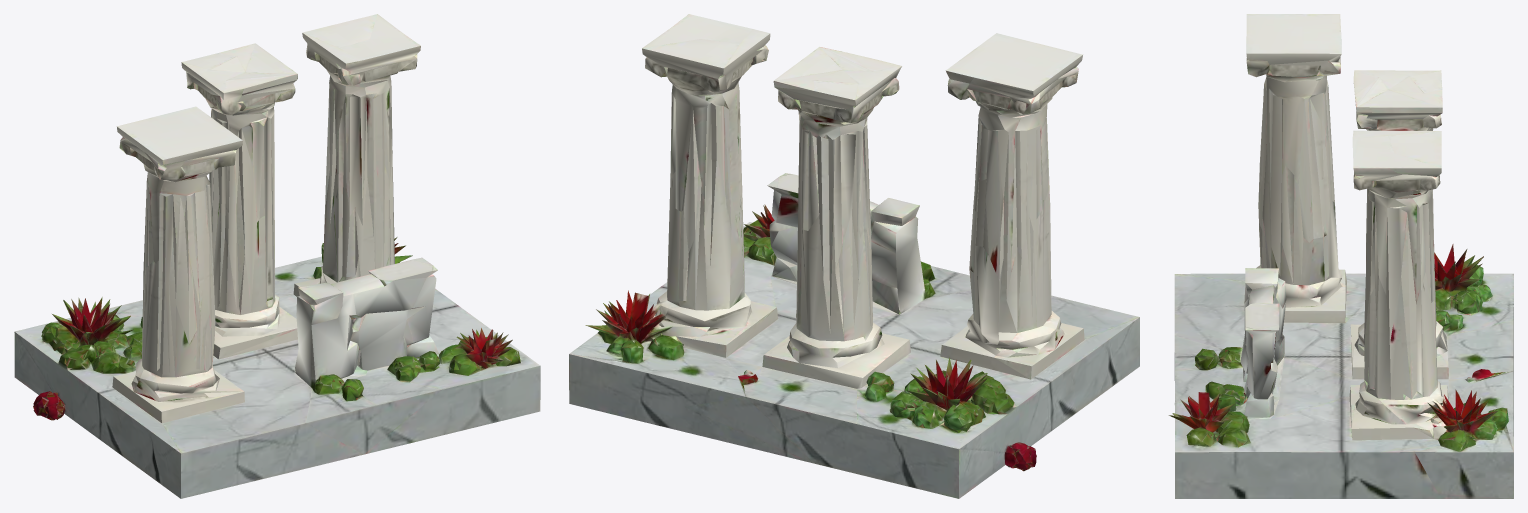
File: ruin-columns.glb
3 renders of one model, left to right at view 1: azimuth 30°, elevation 25°; view 2: azimuth 150°, elevation 25°; view 3: azimuth 270°, elevation 25°, orthographic. The views are drawn at different scales.
Size of the model in its own units: 1.89 by 1.46 by 1.44.
Materials: 1 (1 with a texture image).
